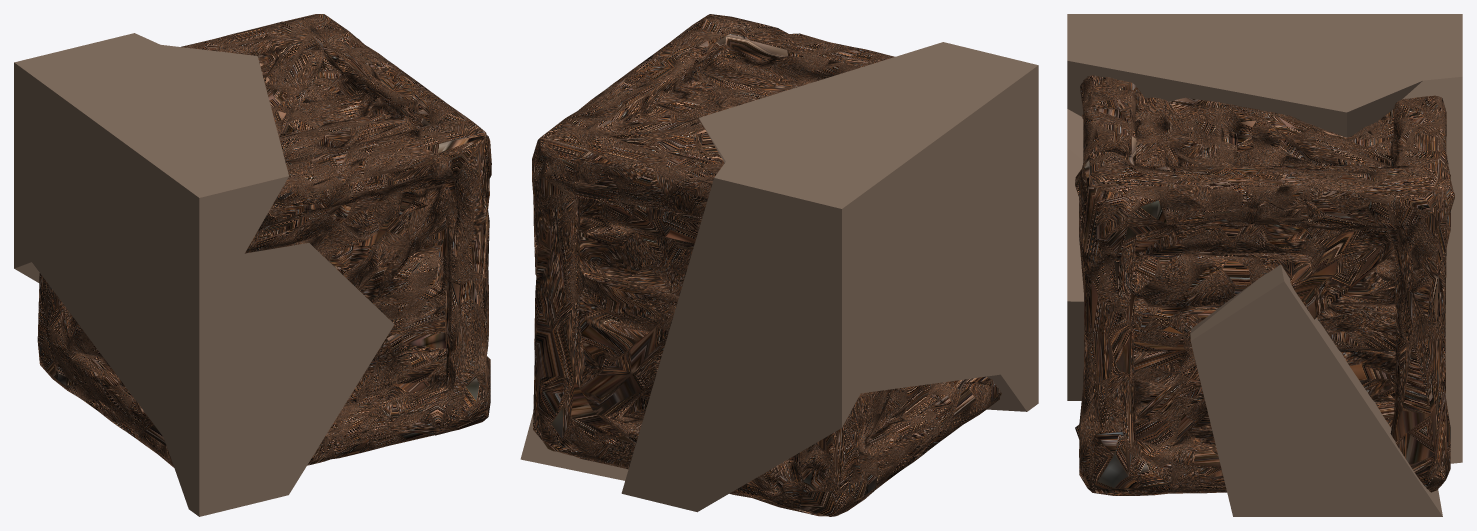
Rendered from sandik_parcali.glb.
The picture shows the model from 3 angles, left to right: view 1: azimuth 30°, elevation 25°; view 2: azimuth 150°, elevation 25°; view 3: azimuth 270°, elevation 25°; orthographic projection. The views are drawn at different scales.
Parts seen in each view (by area): view 1: p06, p11, p04, p07, p05, p03, p10, p02; view 2: p06, p05, p11, p07, p04, p08, p00, p03; view 3: p06, p08, p11, p05, p04, p03, p10, p09, p02.
Part boxes in pixels (box(x1,y1,x2,y2)): p06: box(37, 14, 491, 467); p11: box(14, 44, 288, 294); p04: box(163, 243, 394, 516); p07: box(14, 97, 176, 436); p05: box(14, 33, 159, 291); p03: box(315, 55, 489, 278); p10: box(310, 86, 437, 303); p02: box(327, 278, 488, 450); p06: box(532, 14, 1000, 516); p05: box(621, 162, 860, 512); p11: box(699, 42, 1038, 246); p07: box(832, 202, 1014, 393); p04: box(987, 158, 1038, 411); p08: box(520, 413, 628, 480); p00: box(732, 379, 991, 511); p03: box(595, 18, 820, 115); p06: box(1075, 75, 1454, 495); p08: box(1187, 264, 1442, 516); p11: box(1067, 14, 1462, 137); p05: box(1377, 51, 1462, 463); p04: box(1067, 109, 1084, 400); p03: box(1083, 109, 1321, 335); p10: box(1083, 94, 1307, 318); p09: box(1083, 80, 1315, 165); p02: box(1079, 330, 1226, 492).
Bounding box in the file's own units: 0.9883 × 0.9649 × 1.02.
2 materials, 1 textured.
